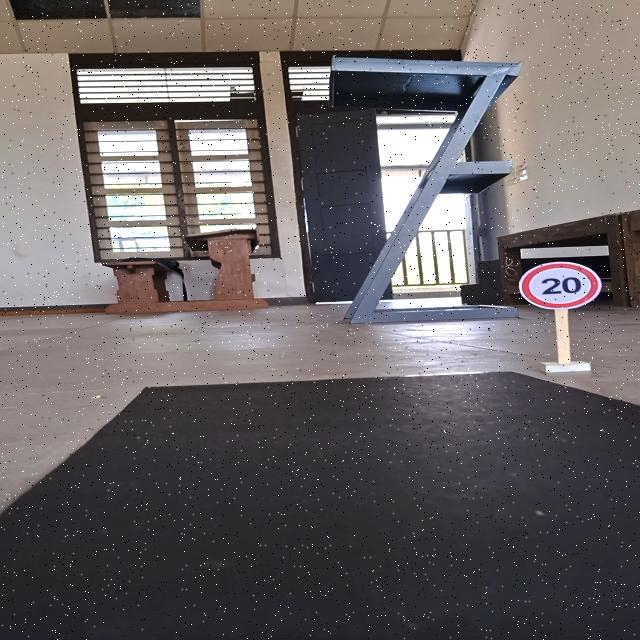Speed20: (516, 260, 606, 310)
